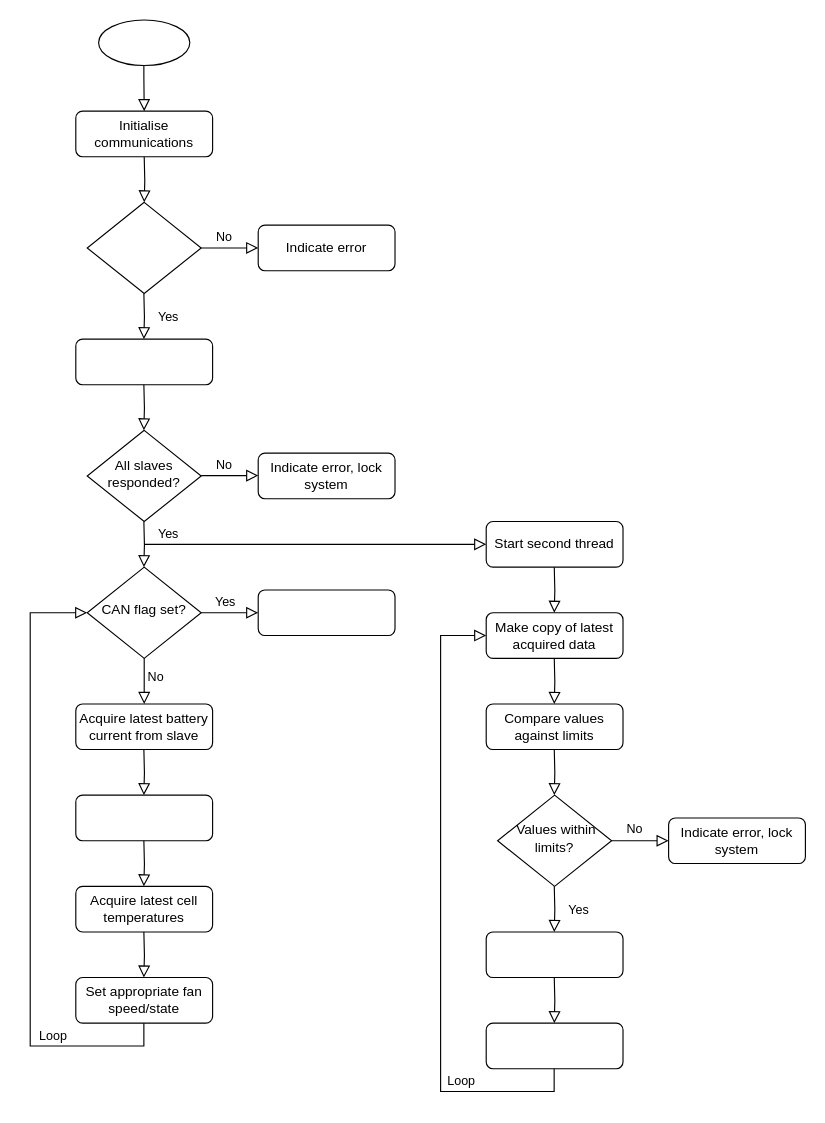
The diagram is 825 pixels wide and 1123 high, and some of its shapes have lost their labels. Each missing label, with the centre of its shape:
Acquire latest cell voltage for all cells: the point at 144,817
Calculate SoC, SoH: the point at 554,954
Communications initialised?: the point at 143,247
Initialise slave boards: the point at 144,361
Read CAN buffer Respond if necessary: the point at 326,612
Start: the point at 143,42
Store all values in data buffer: the point at 554,1045
